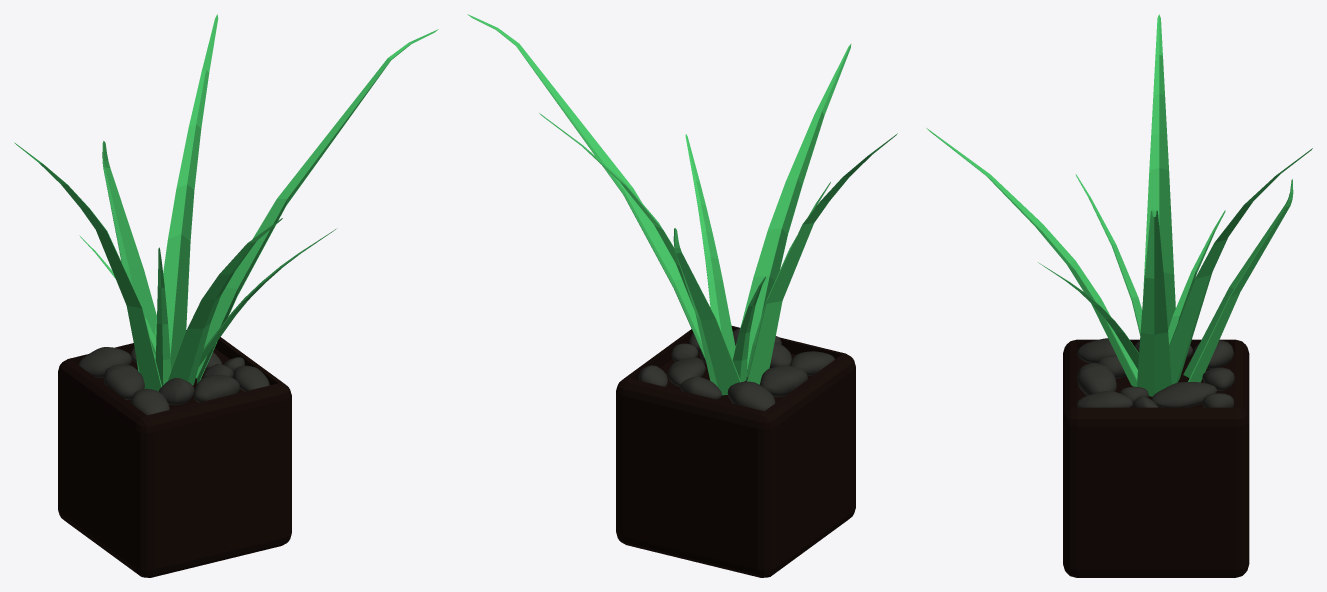
The model's file is cact.obj.
The picture shows the model from 3 angles, left to right: view 1: azimuth 30°, elevation 25°; view 2: azimuth 150°, elevation 25°; view 3: azimuth 270°, elevation 25°; orthographic projection. The views are drawn at different scales.
Visible parts, largest first — view 1: cact_Cactus_1_Cube.007; view 2: cact_Cactus_1_Cube.007; view 3: cact_Cactus_1_Cube.007.
Boxes of the visible parts, box(x1,y1,x2,y2) form: cact_Cactus_1_Cube.007: box(14, 14, 438, 577); cact_Cactus_1_Cube.007: box(467, 14, 897, 577); cact_Cactus_1_Cube.007: box(926, 14, 1312, 577).
Bounding box in the file's own units: 0.0207 × 0.0207 × 0.0157.
